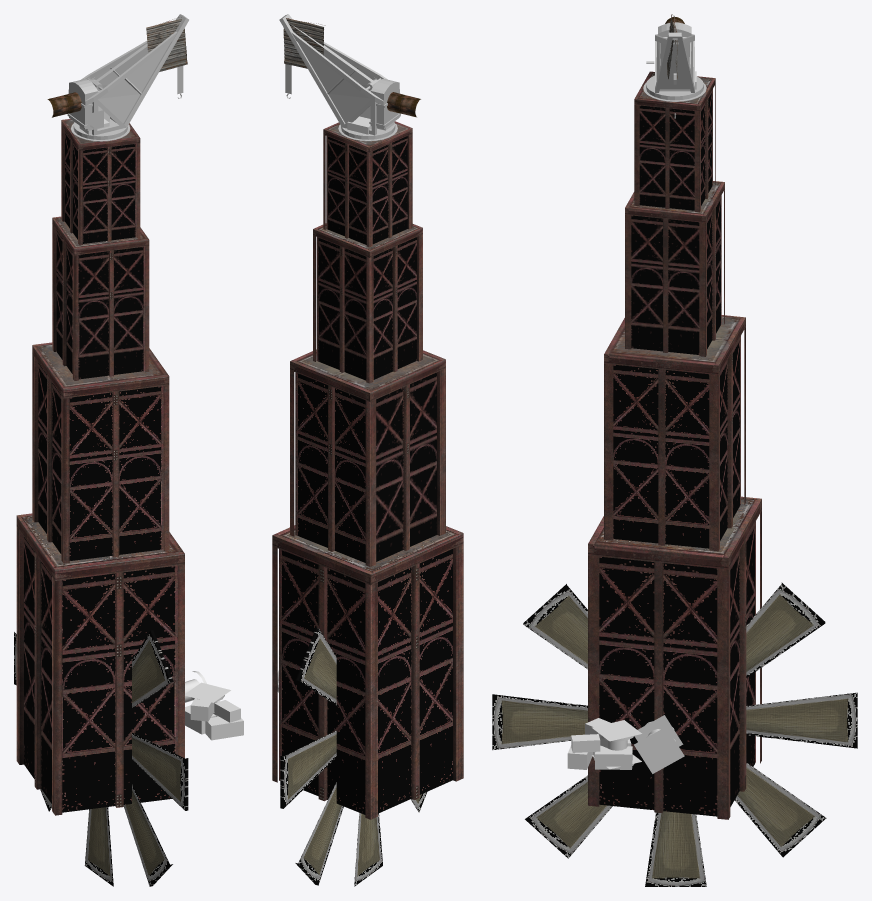
The model's file is windmill.gltf.
3 views of the same model, side by side, from view 1: azimuth 30°, elevation 25°; view 2: azimuth 150°, elevation 25°; view 3: azimuth 270°, elevation 25° (orthographic). The views are drawn at different scales.
Visible parts, largest first — view 1: _main_lod0, _fan_lod0, _crane_lod0, wooden_pile, spool; view 2: _main_lod0, _fan_lod0, _crane_lod0; view 3: _main_lod0, _fan_lod0, _crane_lod0, wooden_pile, spool_1, spool.
Boxes of the visible parts, x1,y1,x2,y2 form: _main_lod0: (16,119,184,815); _fan_lod0: (14,630,188,886); _crane_lod0: (47,14,188,141); wooden_pile: (185,698,243,740); spool: (185,682,230,702); _main_lod0: (272,121,463,819); _fan_lod0: (280,628,426,886); _crane_lod0: (279,14,420,141); _main_lod0: (588,71,761,819); _fan_lod0: (492,582,857,886); _crane_lod0: (643,14,706,118); wooden_pile: (567,718,632,769); spool_1: (634,715,684,773); spool: (592,720,641,769).
Size of what is drawn, in the model's own units: 1.31 by 6.16 by 2.27.
